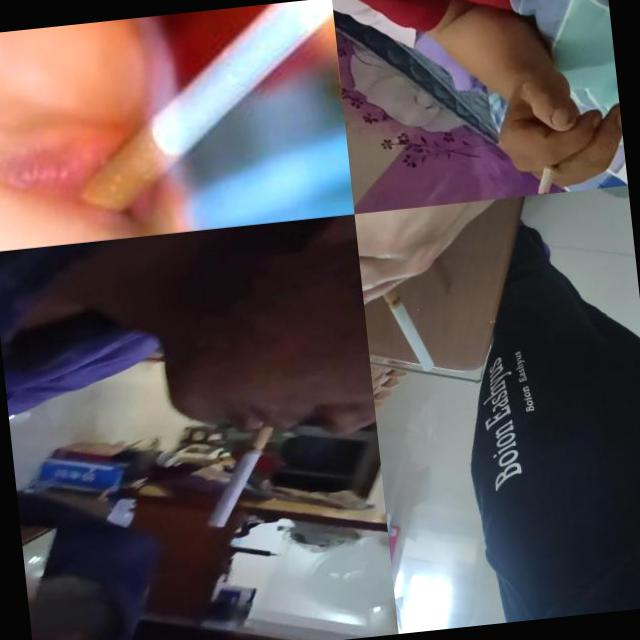cigarette: (58, 0, 353, 229), (195, 424, 284, 531), (373, 268, 436, 377), (524, 148, 564, 196)
